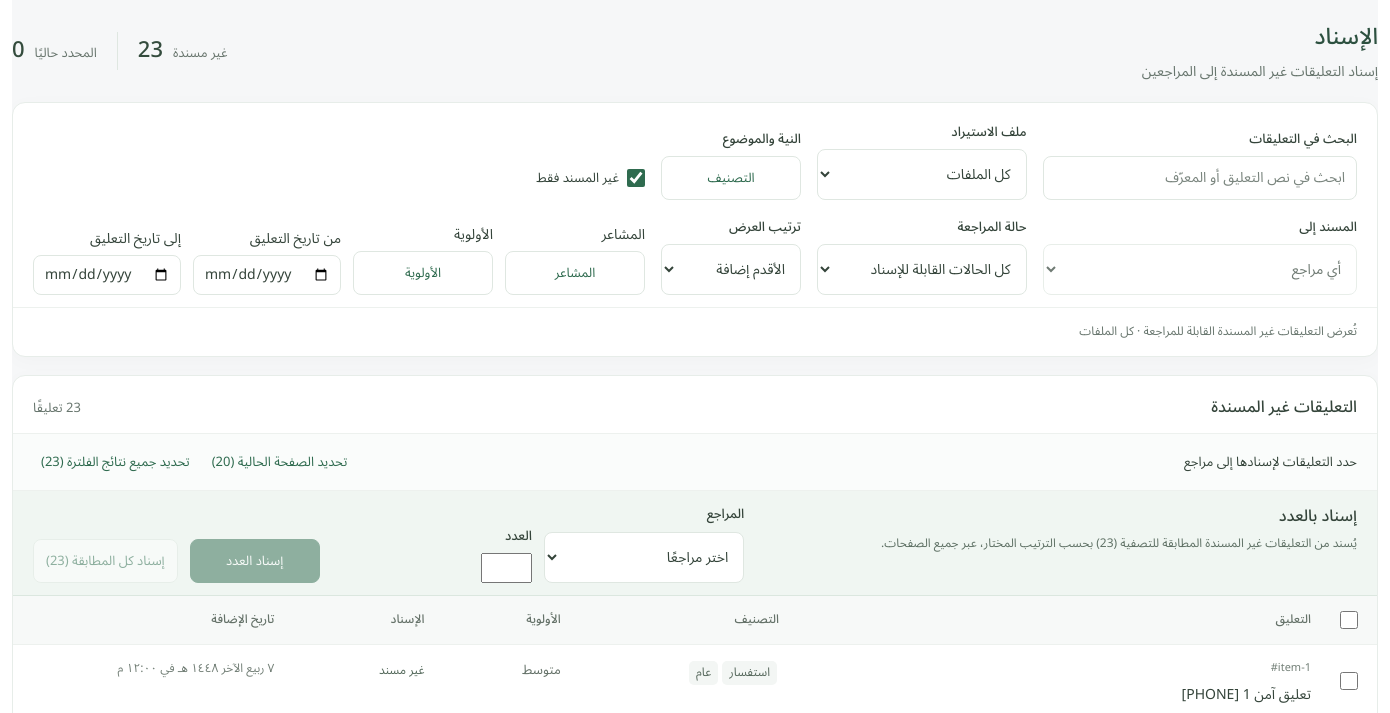
Scenario: Admin Assignment workspace › assigns every matching comment in one request
This screenshot has width=1390, height=713.
Expected: the checkbox named "تحديد item-1" is shown, [1340,672,1358,690]
Select "مراجع اختبار — 5 قيد الإنجاز" in the dropdown named "المراجع للإسناد بالعدد" at [644, 557], box [544,532,744,583]
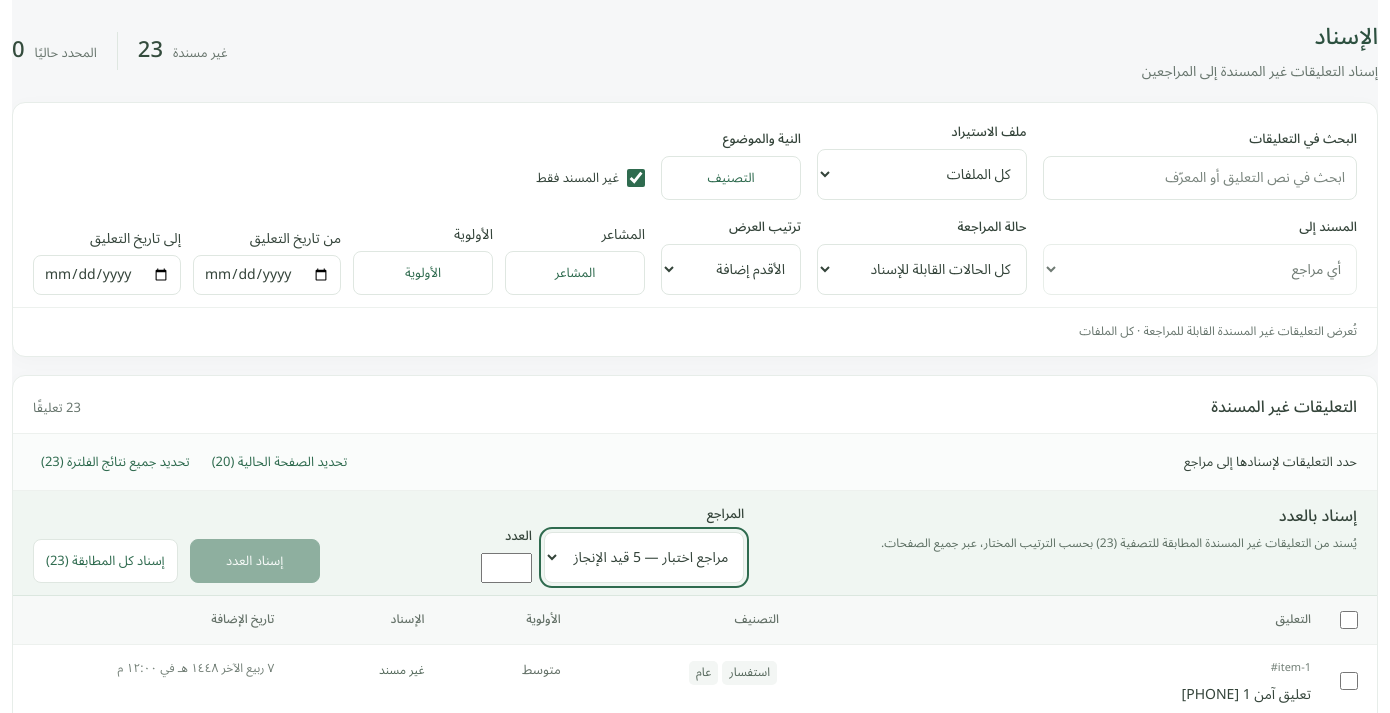
Click the button "إسناد كل المطابقة (23)".
click(105, 561)  # box [33,539,178,583]
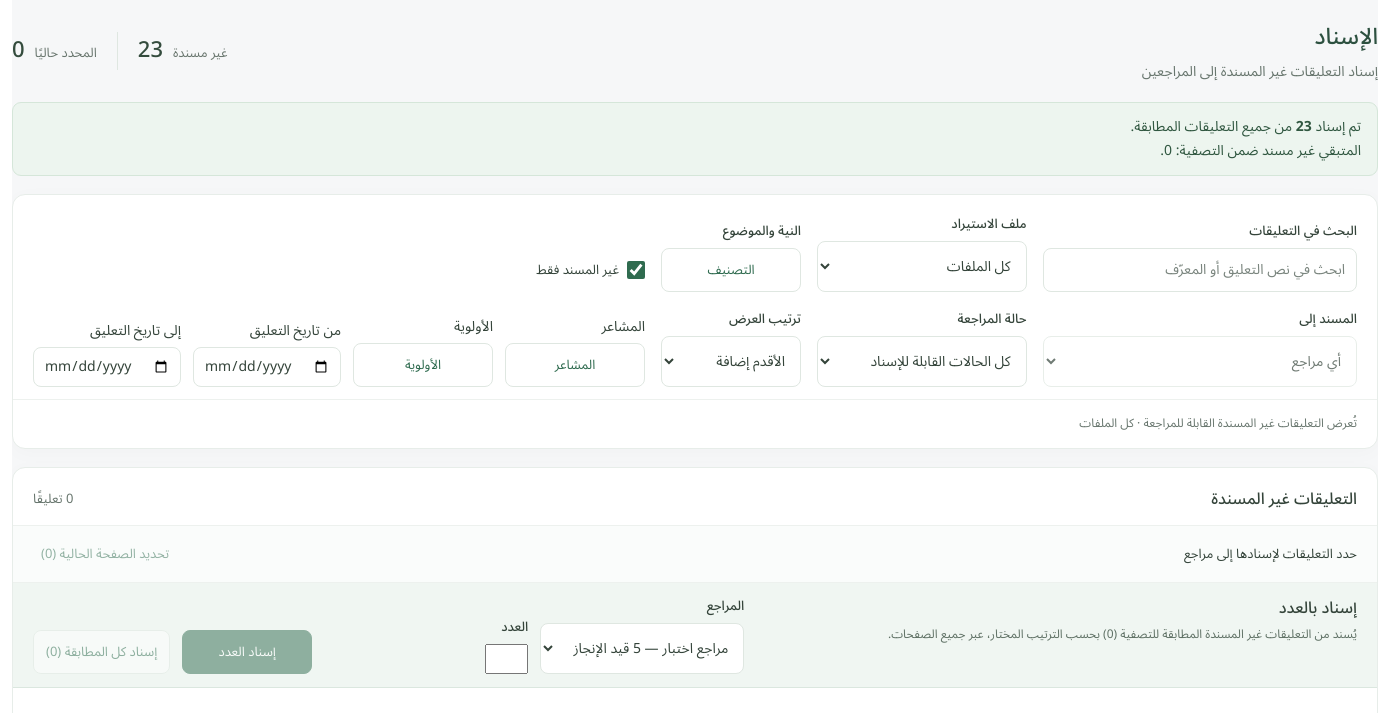
Expected: the text "تم إسناد 23 من جميع التعليقات المطابقة." is shown, [1130,112,1361,141]
